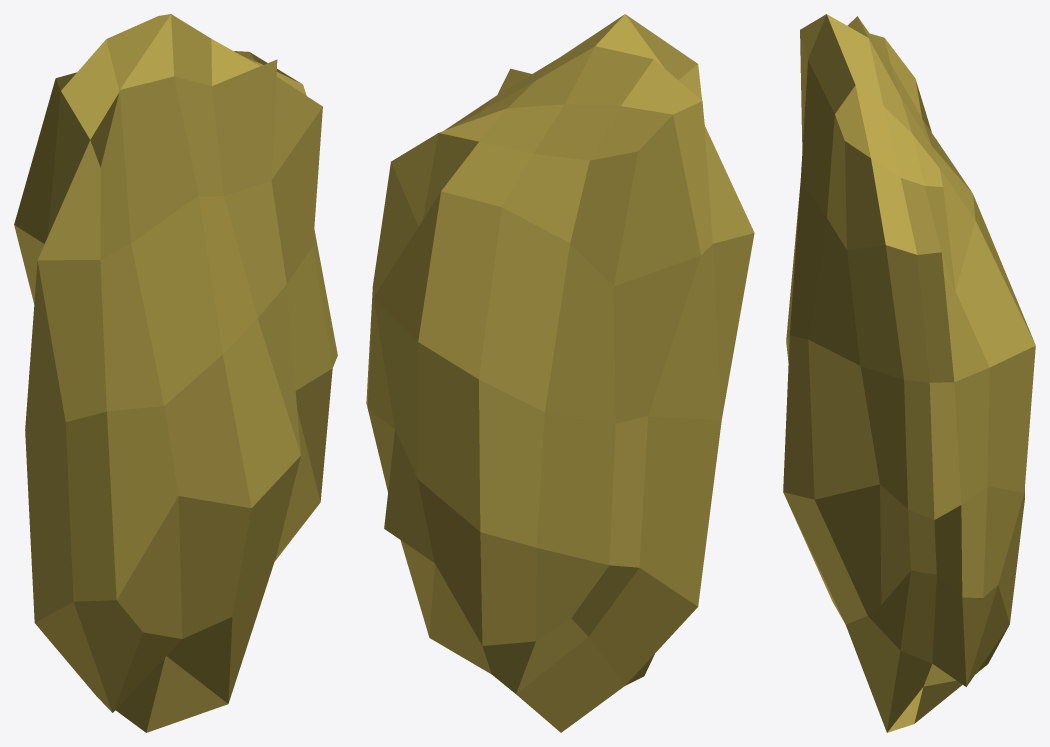
The model's file is pisecnyFloating2.fbx.
3 renders of one model, left to right at view 1: azimuth 30°, elevation 25°; view 2: azimuth 150°, elevation 25°; view 3: azimuth 270°, elevation 25°, orthographic. The views are drawn at different scales.
Visible parts, largest first — view 1: floatingSandstone.001; view 2: floatingSandstone.001; view 3: floatingSandstone.001.
Part boxes in pixels (x1,y1,x2,y2): floatingSandstone.001: (14,14,337,732); floatingSandstone.001: (366,14,754,732); floatingSandstone.001: (783,14,1035,732).
Size of the model in its own units: 933 by 1865 by 610.
